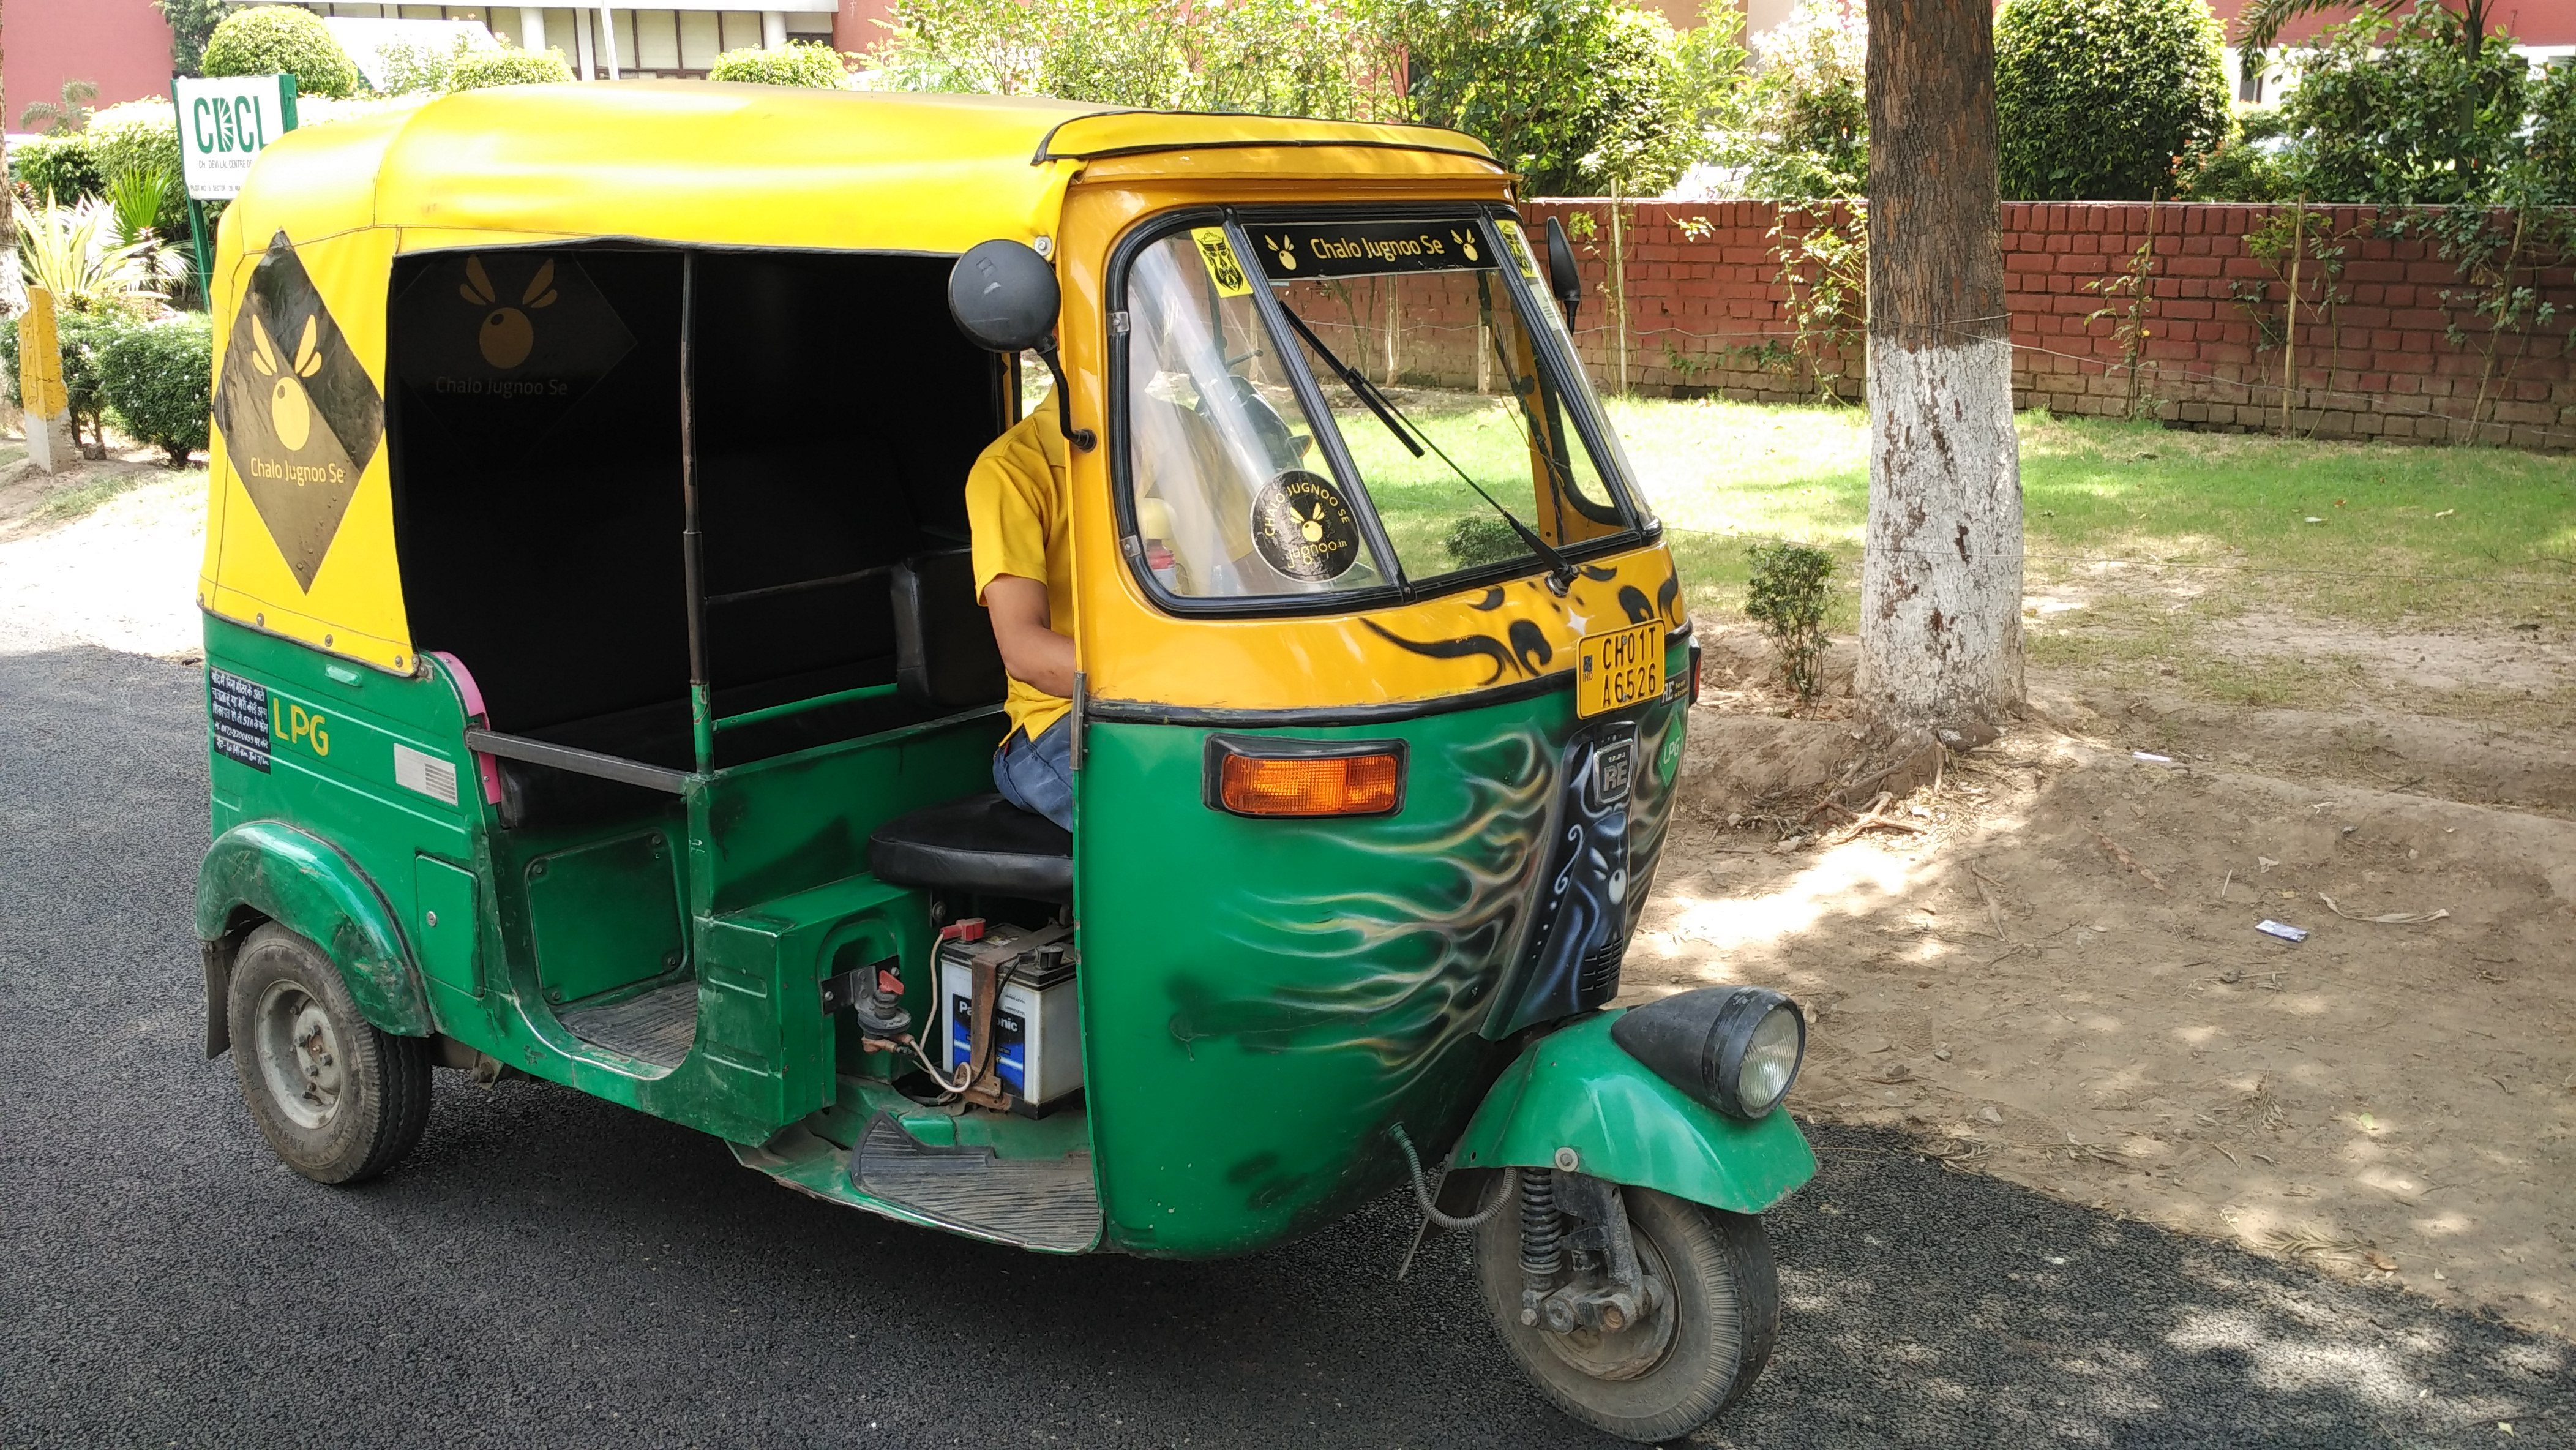auto: (162, 40, 1915, 1427)
numberplate: (1578, 613, 1685, 741)
